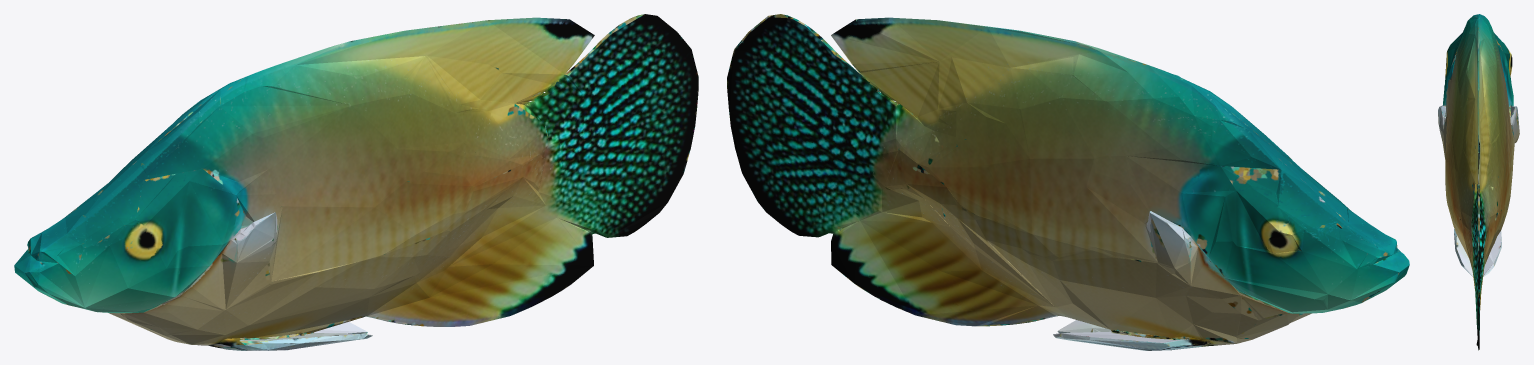
File: fish_0043_smpl23_resized.glb
3 views of the same model, side by side, from view 1: azimuth 30°, elevation 25°; view 2: azimuth 150°, elevation 25°; view 3: azimuth 270°, elevation 25° (orthographic). The views are drawn at different scales.
Parts seen in each view (by area): view 1: world; view 2: world; view 3: world.
Part boxes in pixels (x1,y1,x2,y2): world: (14,14,698,350); world: (727,14,1409,350); world: (1438,14,1519,350).
Size of the model in its own units: 1.99 by 0.8794 by 0.2783.
Materials: 1 (1 with a texture image).
